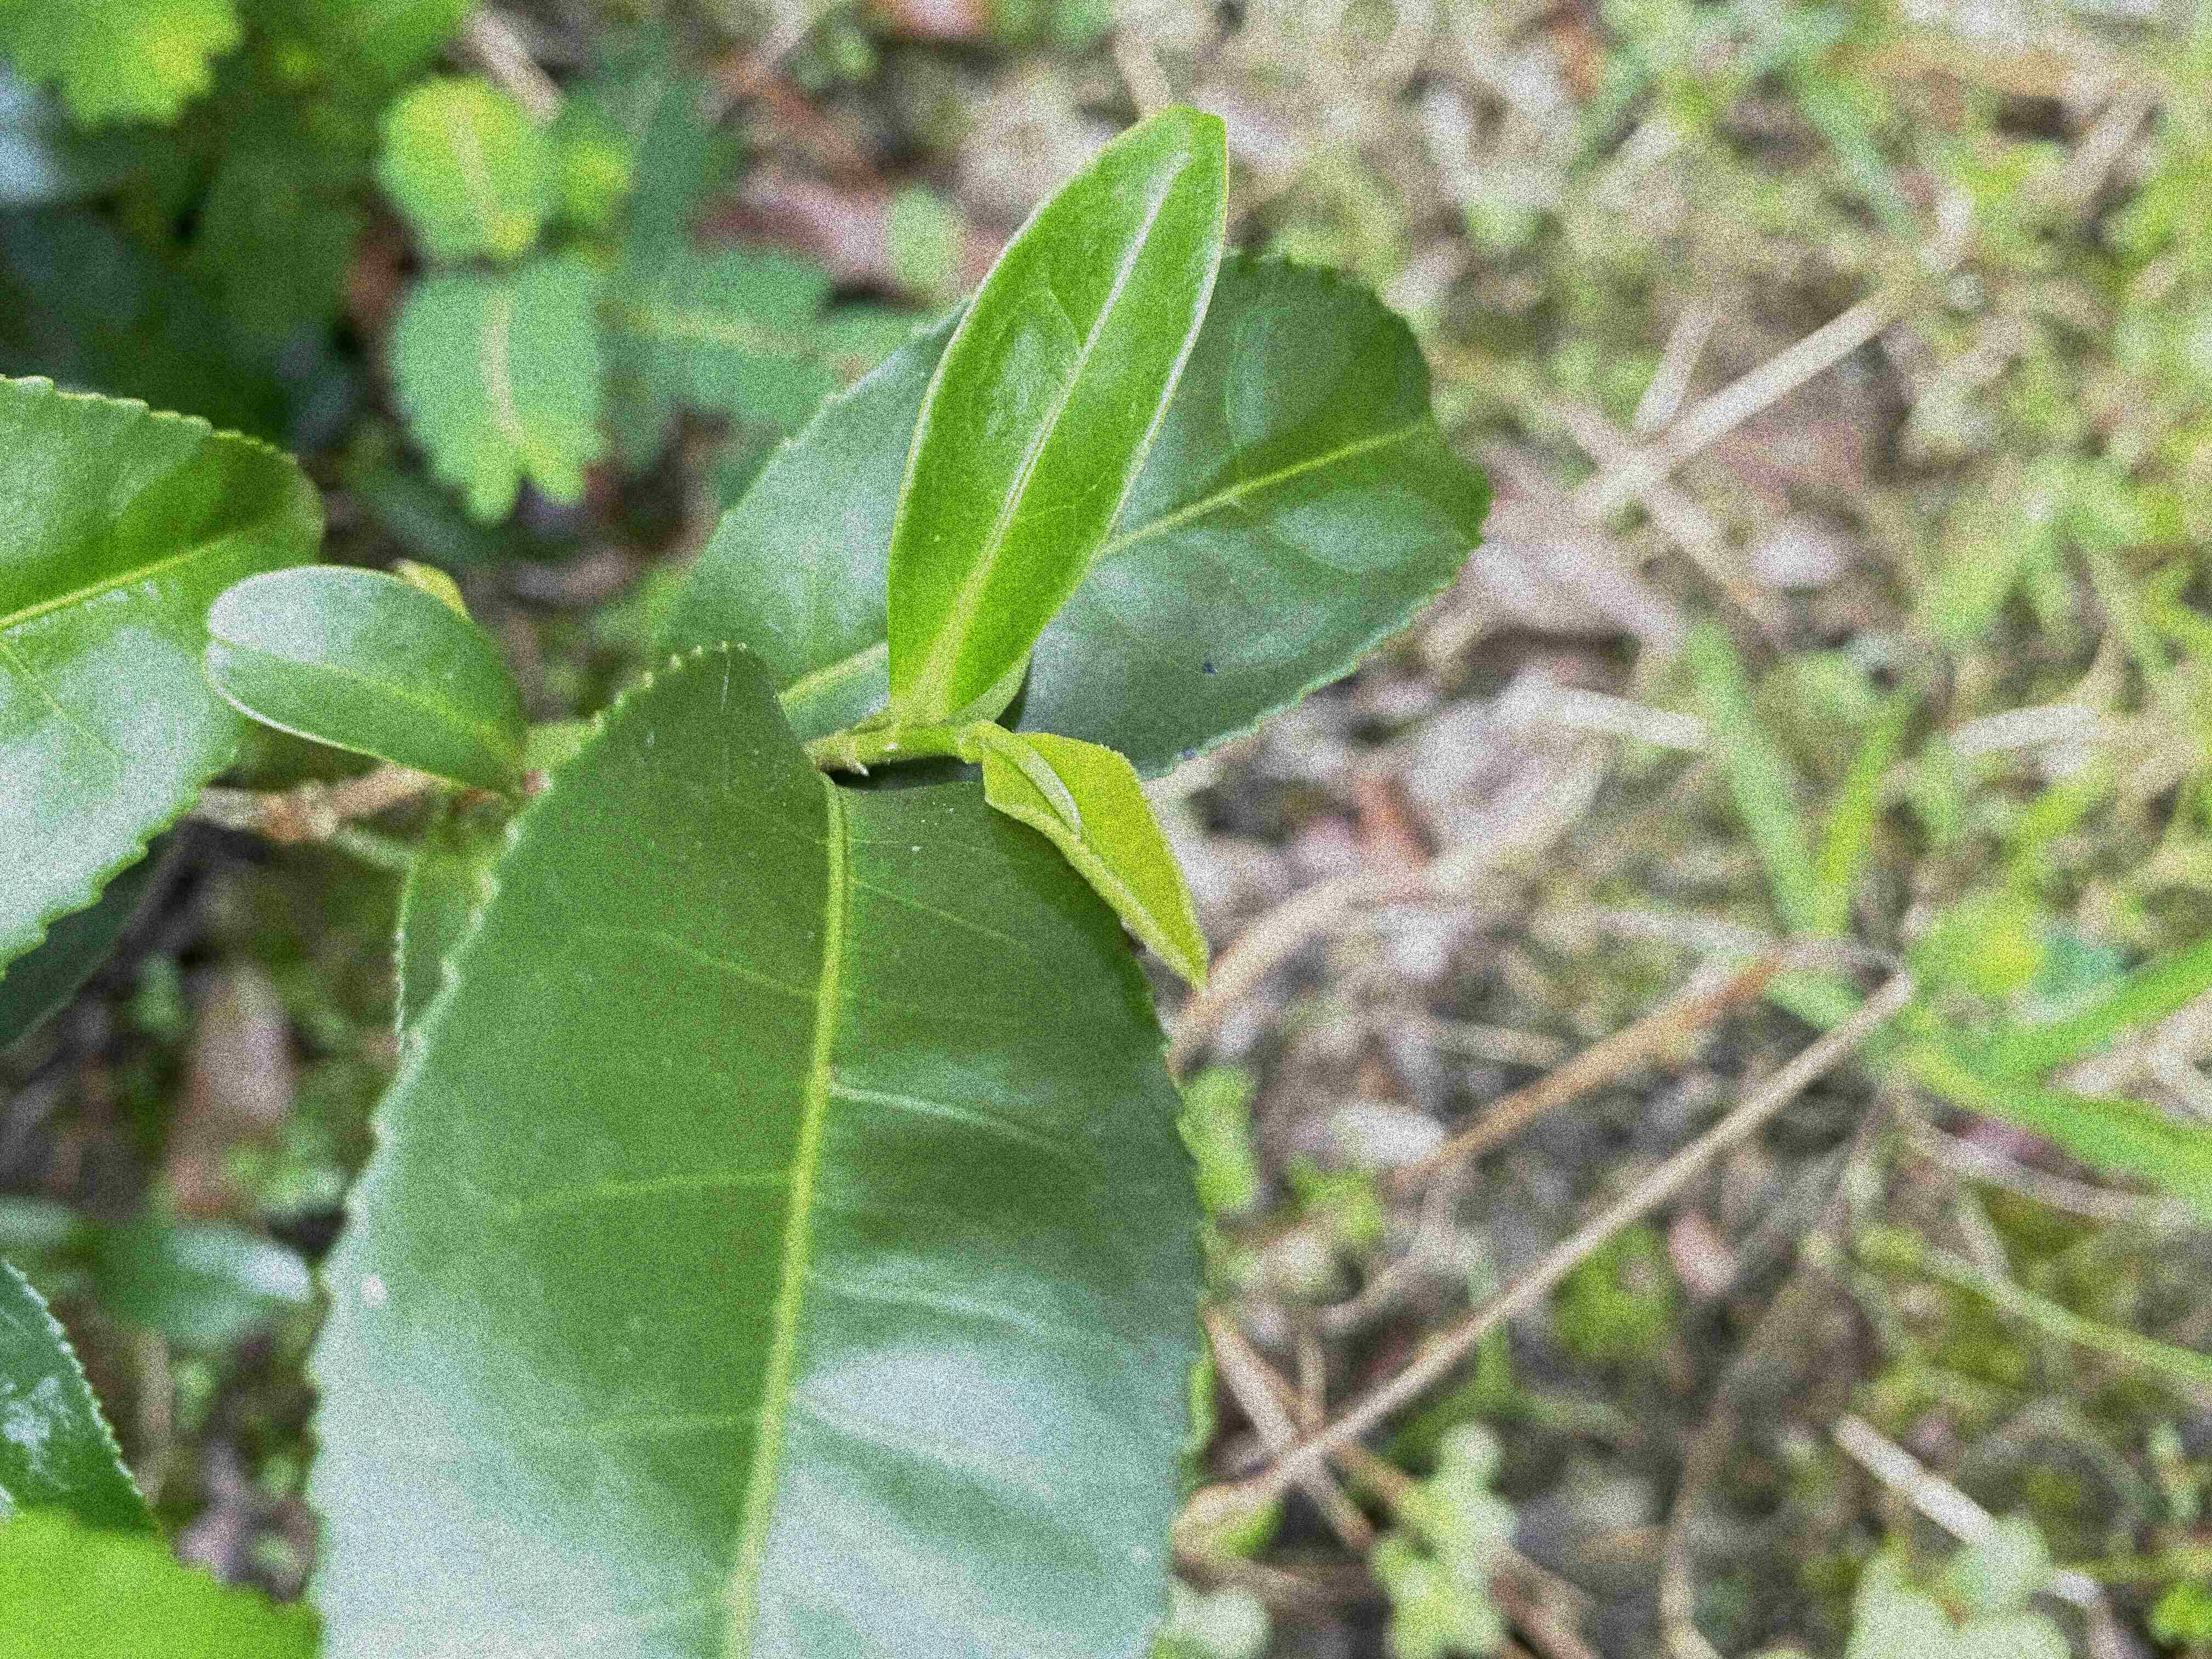healthy: (298, 643, 1216, 1654), (887, 103, 1235, 728), (5, 375, 333, 981), (207, 566, 533, 795)
